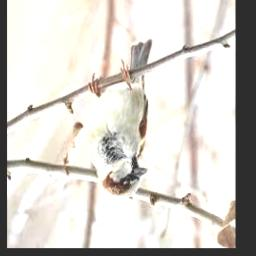Sparrow: (87, 40, 153, 198)
